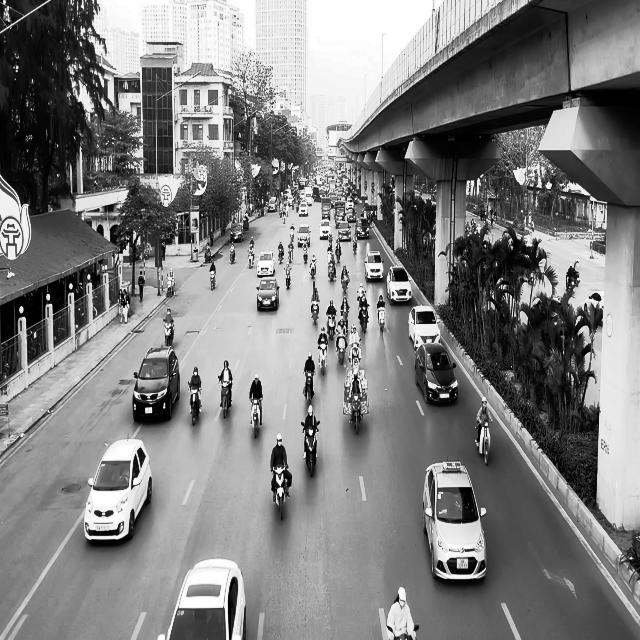car: (422, 460, 487, 581), (83, 435, 152, 543), (157, 558, 246, 640), (132, 344, 180, 422), (414, 343, 458, 405), (408, 305, 440, 350), (386, 266, 412, 304), (583, 290, 604, 326), (256, 278, 279, 310), (364, 251, 384, 281), (256, 250, 276, 277), (230, 222, 243, 242)
motorbike: (300, 419, 320, 476), (271, 465, 291, 520), (474, 417, 492, 465), (349, 390, 364, 434), (188, 382, 202, 426), (218, 375, 232, 418), (249, 396, 262, 438), (303, 370, 315, 403), (317, 340, 328, 374), (566, 268, 580, 291), (163, 318, 174, 347), (377, 304, 385, 332), (166, 274, 175, 297), (284, 262, 291, 288), (209, 268, 216, 290), (248, 250, 254, 269)
